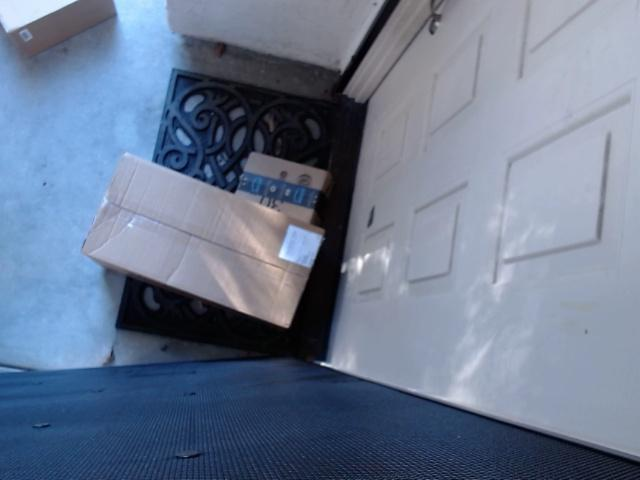box: (61, 151, 333, 339), (226, 129, 342, 239), (0, 0, 144, 50)
